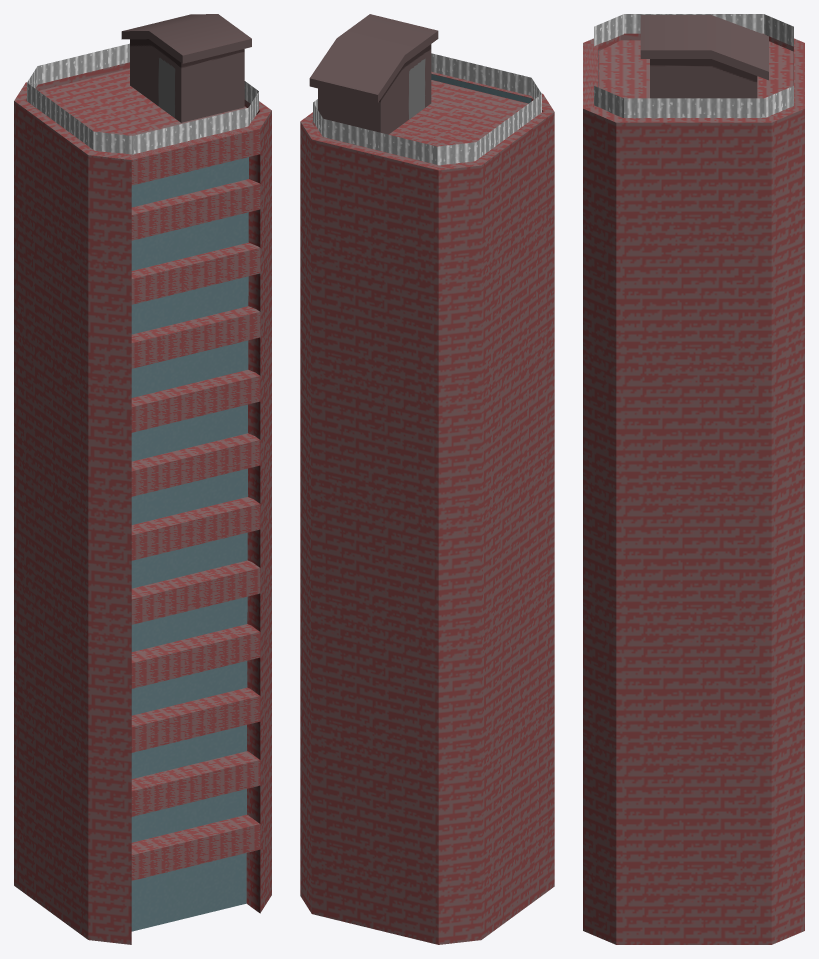
The picture shows the model from 3 angles, left to right: view 1: azimuth 30°, elevation 25°; view 2: azimuth 150°, elevation 25°; view 3: azimuth 270°, elevation 25°; orthographic projection. The views are drawn at different scales.
Visible parts, largest first — view 1: hontai, koya, saku, nikai, sankai, yonkai, gokai, rokkai, nanakai, hachikai, kyukai, jukkai (+4 smaller); view 2: hontai, koya_yane, saku, koya; view 3: hontai, saku, koya_yane, koya, okujou.
Part boxes in pixels (box(x1,y1,x2,y2)): hontai: box(14, 62, 271, 944); koya: box(130, 39, 244, 122); saku: box(27, 43, 258, 154); nikai: box(131, 814, 260, 880); sankai: box(131, 751, 260, 816); yonkai: box(131, 687, 260, 752); gokai: box(131, 624, 260, 688); rokkai: box(131, 560, 260, 624); nanakai: box(131, 497, 260, 560); hachikai: box(131, 433, 260, 496); kyukai: box(131, 369, 260, 432); jukkai: box(131, 306, 260, 368); hontai: box(300, 74, 554, 944); koya_yane: box(309, 14, 438, 102); saku: box(313, 53, 541, 165); koya: box(318, 44, 431, 134); hontai: box(583, 33, 804, 944); saku: box(594, 14, 793, 117); koya_yane: box(640, 15, 768, 80); koya: box(650, 59, 757, 98); okujou: box(583, 43, 598, 108).
Size of the model in its own units: 500 by 2213 by 500.
